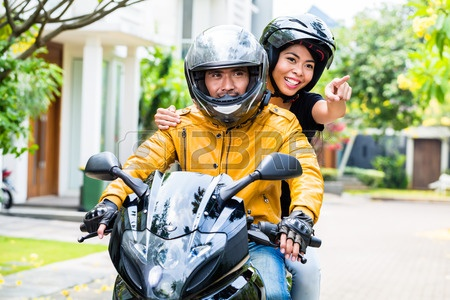helmet: (180, 23, 271, 125), (261, 11, 336, 100)
